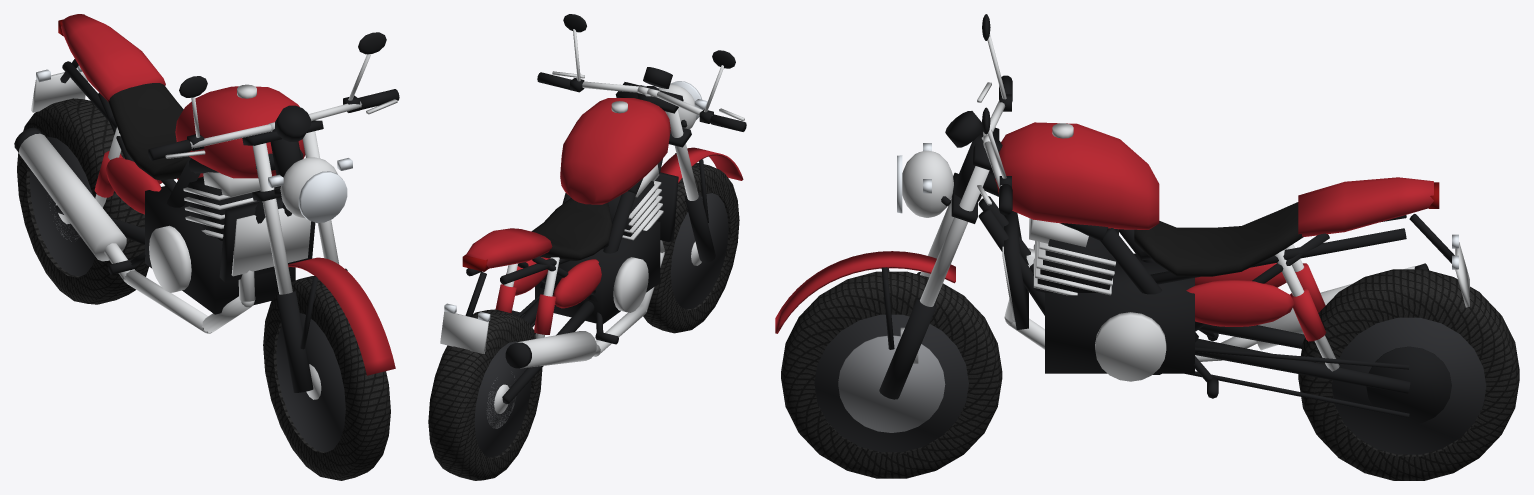
Rendered from car_bike.glb.
3 views of the same model, side by side, from view 1: azimuth 30°, elevation 25°; view 2: azimuth 150°, elevation 25°; view 3: azimuth 270°, elevation 25° (orthographic). The views are drawn at different scales.
Visible parts, largest first — view 1: Body, fork, wheel_F, wheel_R; view 2: Body, wheel_R, wheel_F, fork; view 3: Body, wheel_R, wheel_F, fork.
Boxes of the visible parts, x1,y1,x2,y2 form: Body: (14, 14, 315, 333); fork: (148, 32, 399, 392); wheel_F: (263, 276, 390, 480); wheel_R: (17, 98, 148, 304); Body: (440, 86, 678, 404); wheel_R: (428, 309, 542, 480); wheel_F: (643, 163, 739, 333); fork: (537, 14, 746, 262); Body: (953, 122, 1469, 417); wheel_R: (1298, 269, 1519, 480); wheel_F: (781, 271, 1002, 478); fork: (775, 14, 1012, 399).
Bounding box in the file's own units: 0.85 × 1.27 × 2.09.
9 materials, 1 textured.
